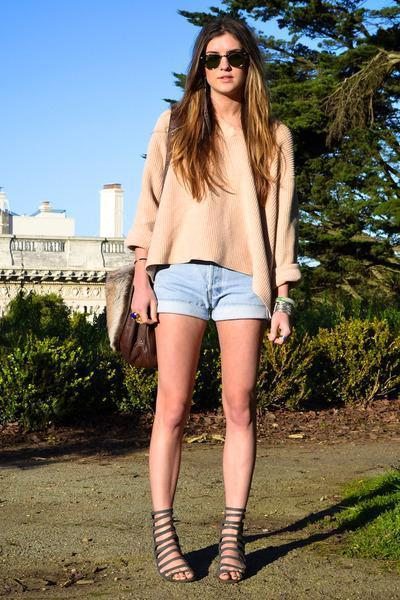bag: (97, 269, 159, 371)
jacket: (124, 109, 323, 299)
shoe: (147, 506, 275, 571)
shorts: (156, 263, 269, 320)
sunglass: (225, 48, 253, 76)
